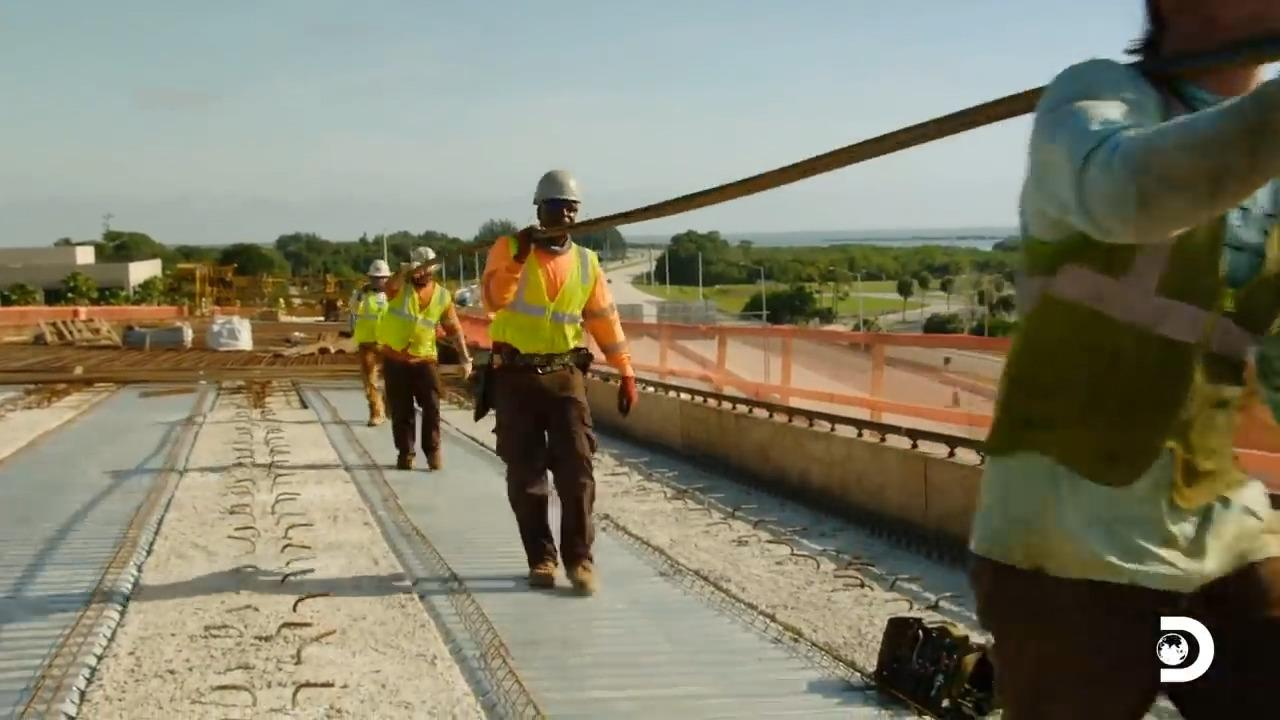Gloves: (613, 377, 639, 420), (511, 227, 539, 262), (399, 258, 423, 279), (455, 355, 473, 382)
Helmet: (532, 169, 581, 205), (409, 245, 436, 265), (366, 258, 393, 277)
Person: (966, 0, 1279, 718), (478, 168, 638, 596), (375, 245, 474, 470), (348, 258, 394, 426)
Safety Boot: (566, 557, 596, 594), (528, 560, 555, 591), (423, 443, 446, 470), (396, 450, 417, 472), (365, 407, 387, 425)
Safety Vest: (1038, 172, 1280, 502), (507, 245, 582, 349), (393, 283, 443, 362), (356, 295, 382, 340)
